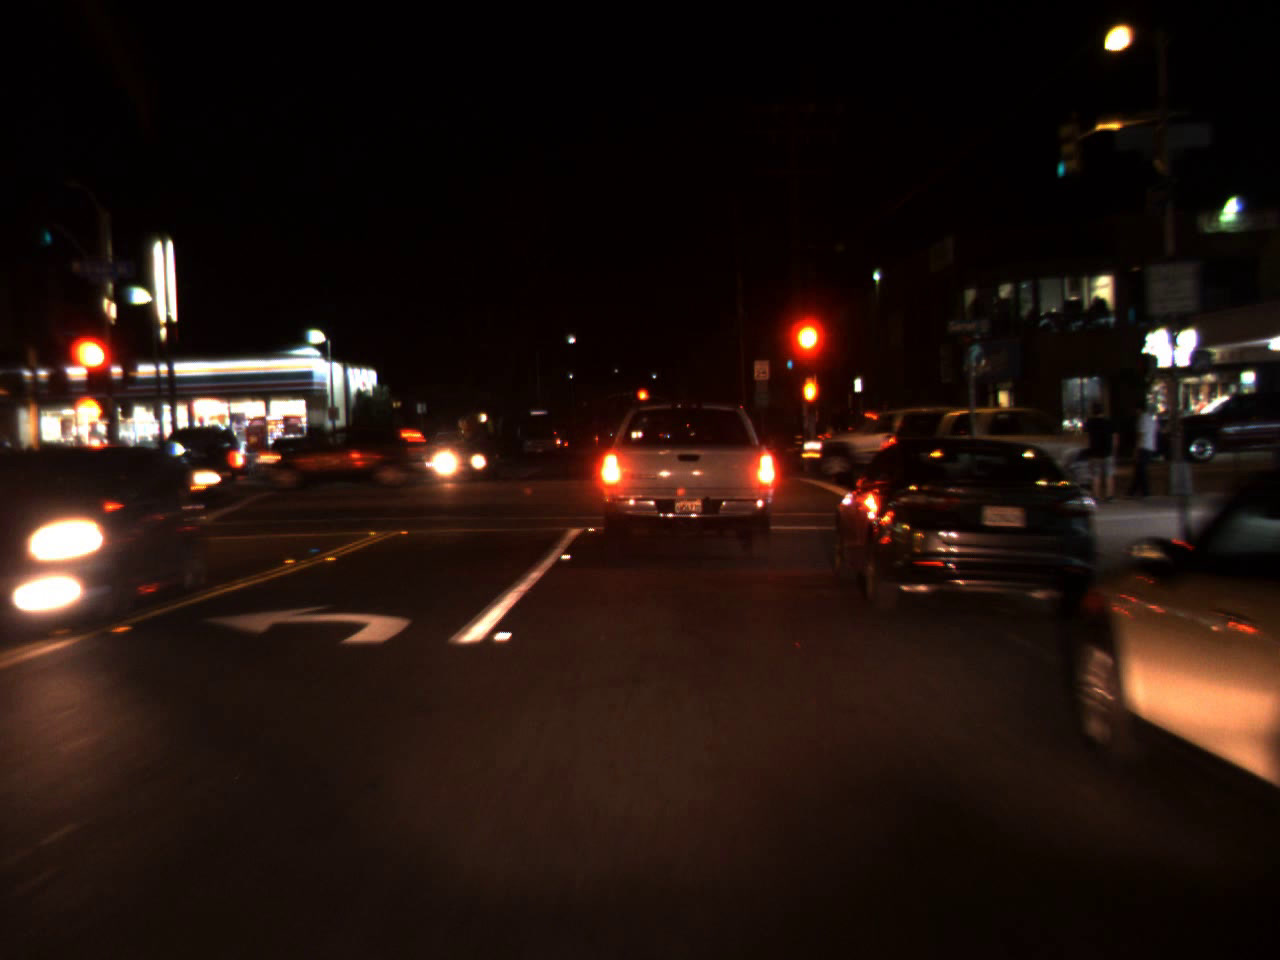stop: (73, 332, 116, 410), (793, 322, 823, 378), (635, 387, 650, 414)
